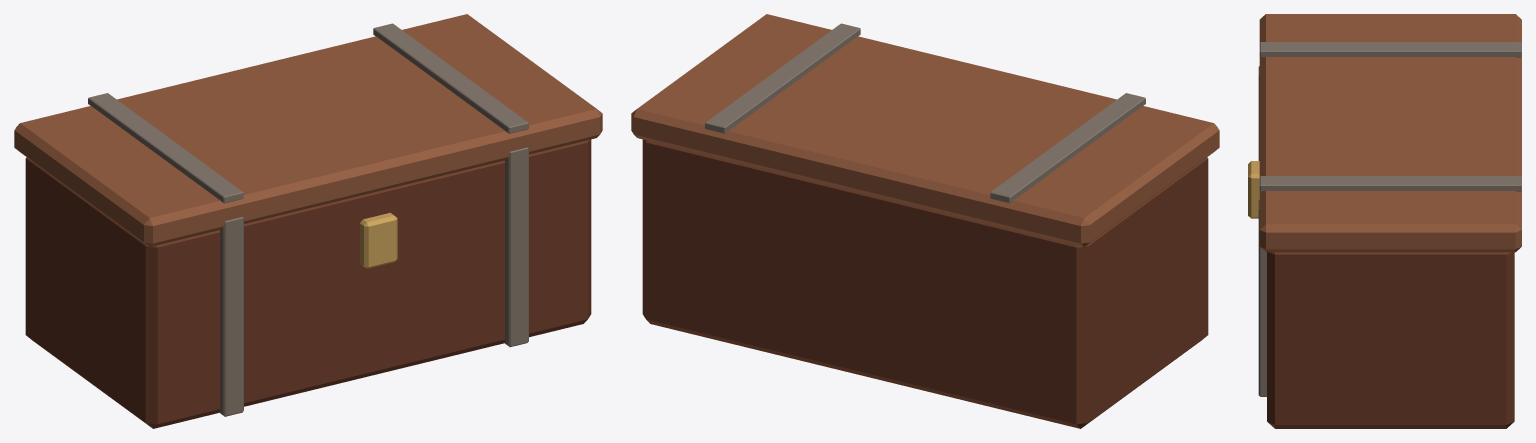
File: service_chest.glb
3 views of the same model, side by side, from view 1: azimuth 30°, elevation 25°; view 2: azimuth 150°, elevation 25°; view 3: azimuth 270°, elevation 25° (orthographic). The views are drawn at different scales.
Visible parts, largest first — view 1: Case, Lid, Band, Band_001, TopBand, TopBand_001, Lock; view 2: Case, Lid, TopBand, TopBand_001; view 3: Lid, Case, TopBand, TopBand_001, Band_001, Lock.
Part boxes in pixels (bbox=[...]): Case: bbox=[25, 139, 591, 428]; Lid: bbox=[14, 14, 602, 246]; Band: bbox=[220, 217, 243, 416]; Band_001: bbox=[505, 147, 528, 347]; TopBand: bbox=[88, 93, 243, 203]; TopBand_001: bbox=[373, 23, 528, 133]; Lock: bbox=[360, 212, 397, 268]; Case: bbox=[642, 139, 1208, 428]; Lid: bbox=[631, 14, 1219, 246]; TopBand: bbox=[990, 93, 1145, 203]; TopBand_001: bbox=[705, 23, 860, 133]; Lid: bbox=[1259, 14, 1521, 252]; Case: bbox=[1267, 252, 1514, 428]; TopBand: bbox=[1259, 42, 1521, 57]; TopBand_001: bbox=[1259, 176, 1521, 191]; Band_001: bbox=[1258, 200, 1266, 396]; Lock: bbox=[1248, 161, 1259, 218].
Size of the model in its own units: 1.24 by 0.573 by 0.663.
